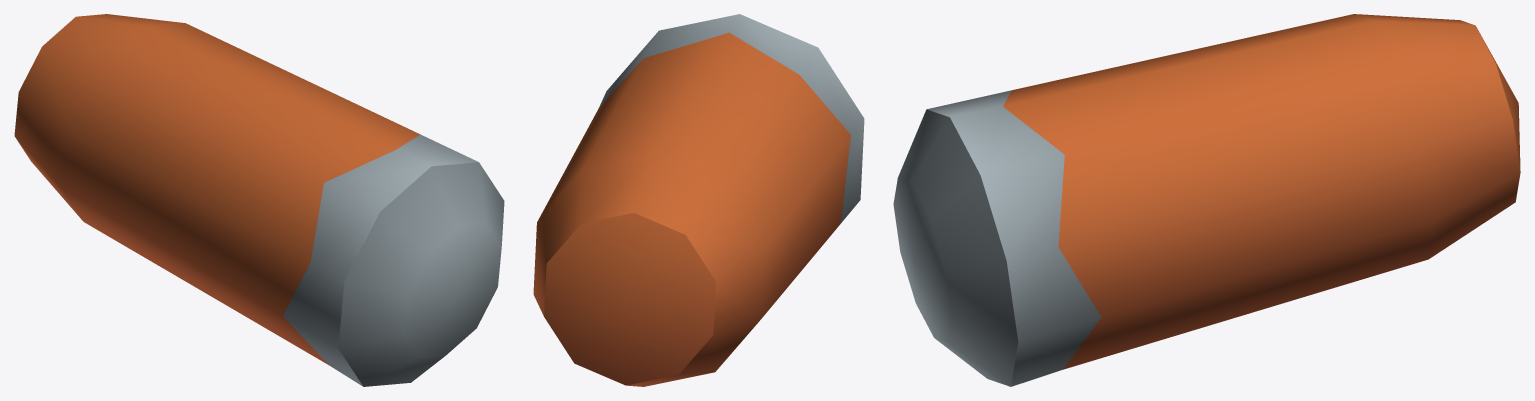
Rendered from ActionFigure_Head_Normal_ActionFigure_Head_Old_Cigar.obj.
3 renders of one model, left to right at view 1: azimuth 30°, elevation 25°; view 2: azimuth 150°, elevation 25°; view 3: azimuth 270°, elevation 25°, orthographic. The views are drawn at different scales.
Parts seen in each view (by area): view 1: ActionFigure_Head_Old_Cigar; view 2: ActionFigure_Head_Old_Cigar; view 3: ActionFigure_Head_Old_Cigar.
Boxes of the visible parts, bbox=[...] form: ActionFigure_Head_Old_Cigar: bbox=[14, 14, 504, 386]; ActionFigure_Head_Old_Cigar: bbox=[533, 14, 864, 386]; ActionFigure_Head_Old_Cigar: bbox=[893, 14, 1520, 386].
Bounding box in the file's own units: 0.1581 × 0.133 × 0.2513.
1 material, 1 textured.
